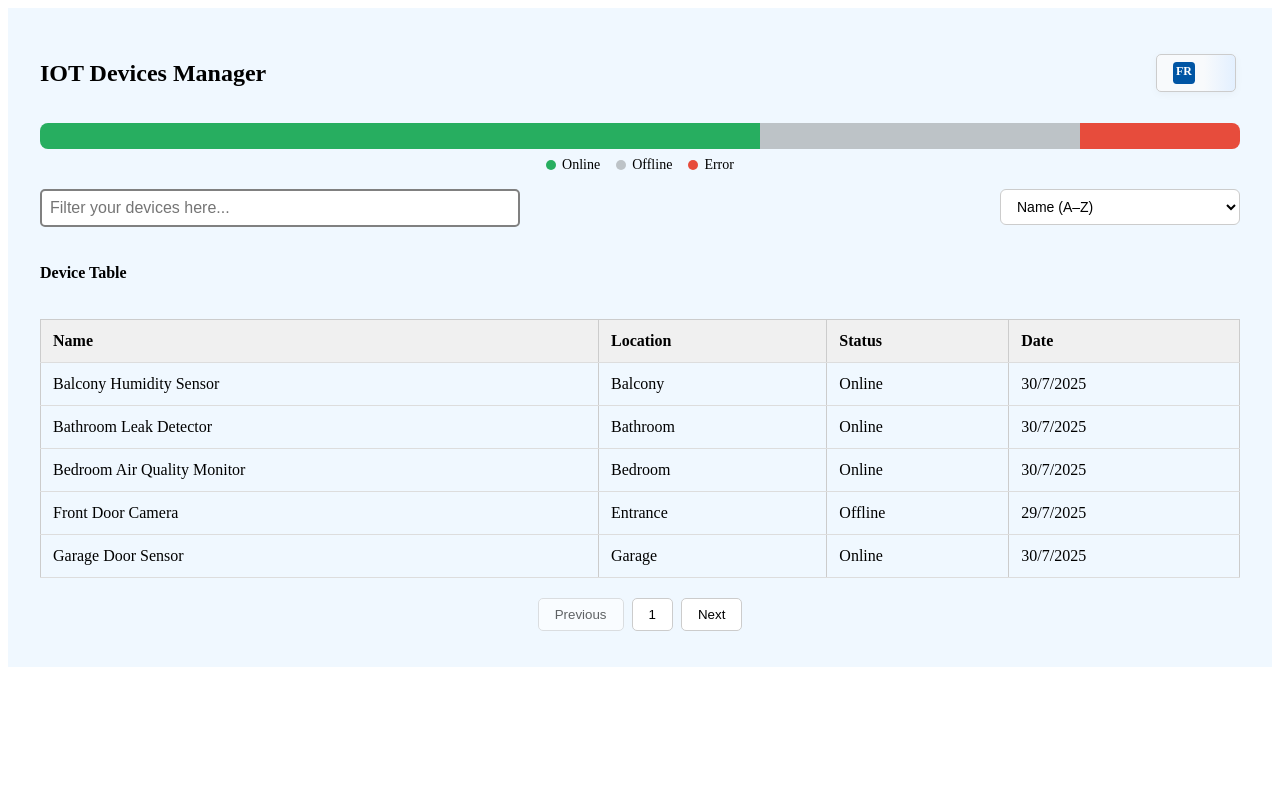
it: DeviceGrid Page › should clear the search and show all devices again
Type "Sensor" into the search field with placeholder "Filter your devices here..." at (280, 208), box [40,189,520,227]
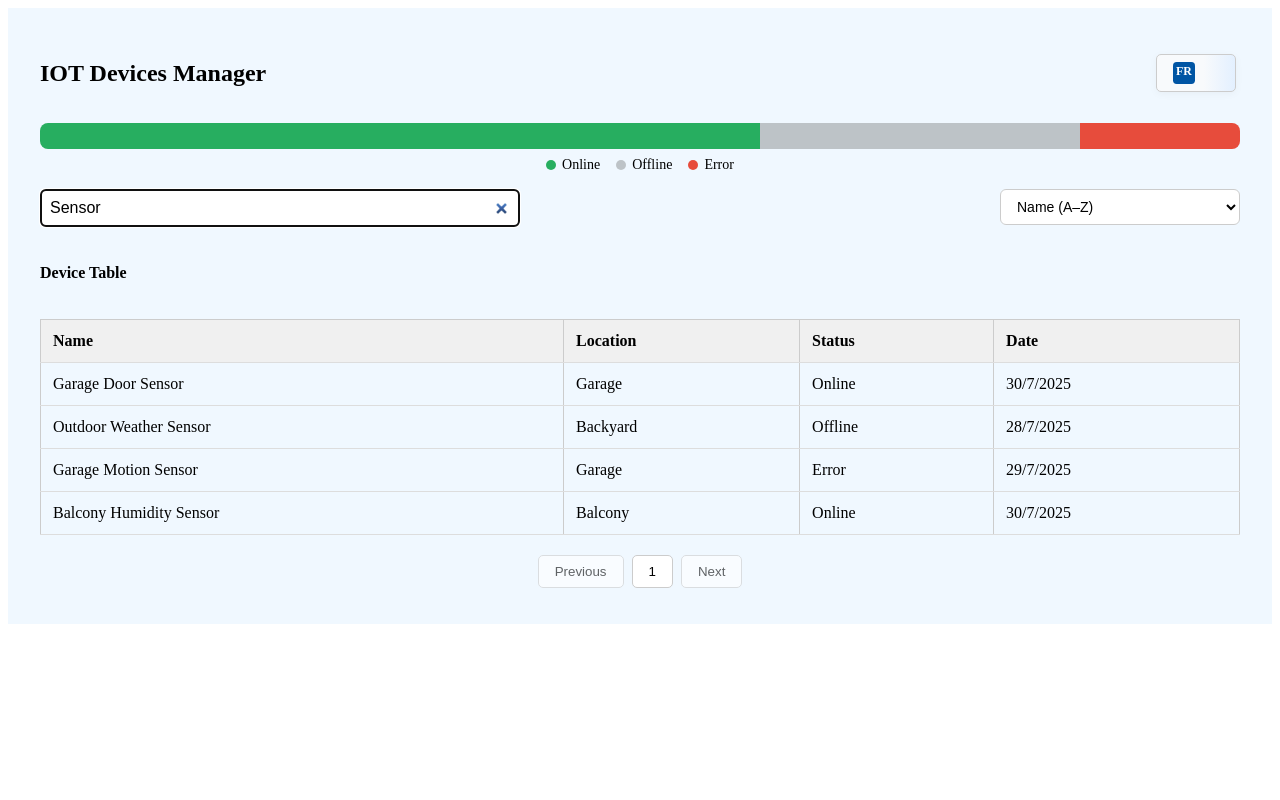
Clear the search field named "Filter devices by name, location or status" at (280, 208), box [40,189,520,227]
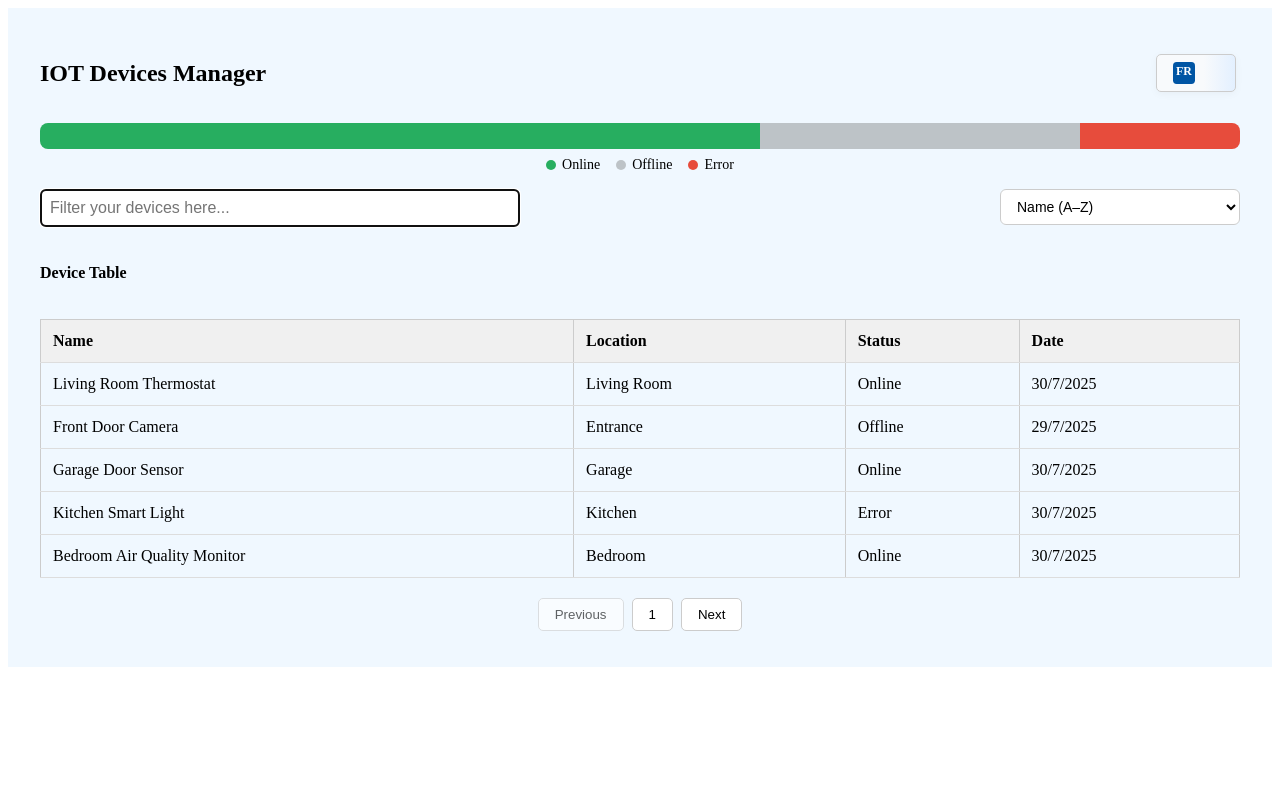
Expected: the number of rows is more than 1
